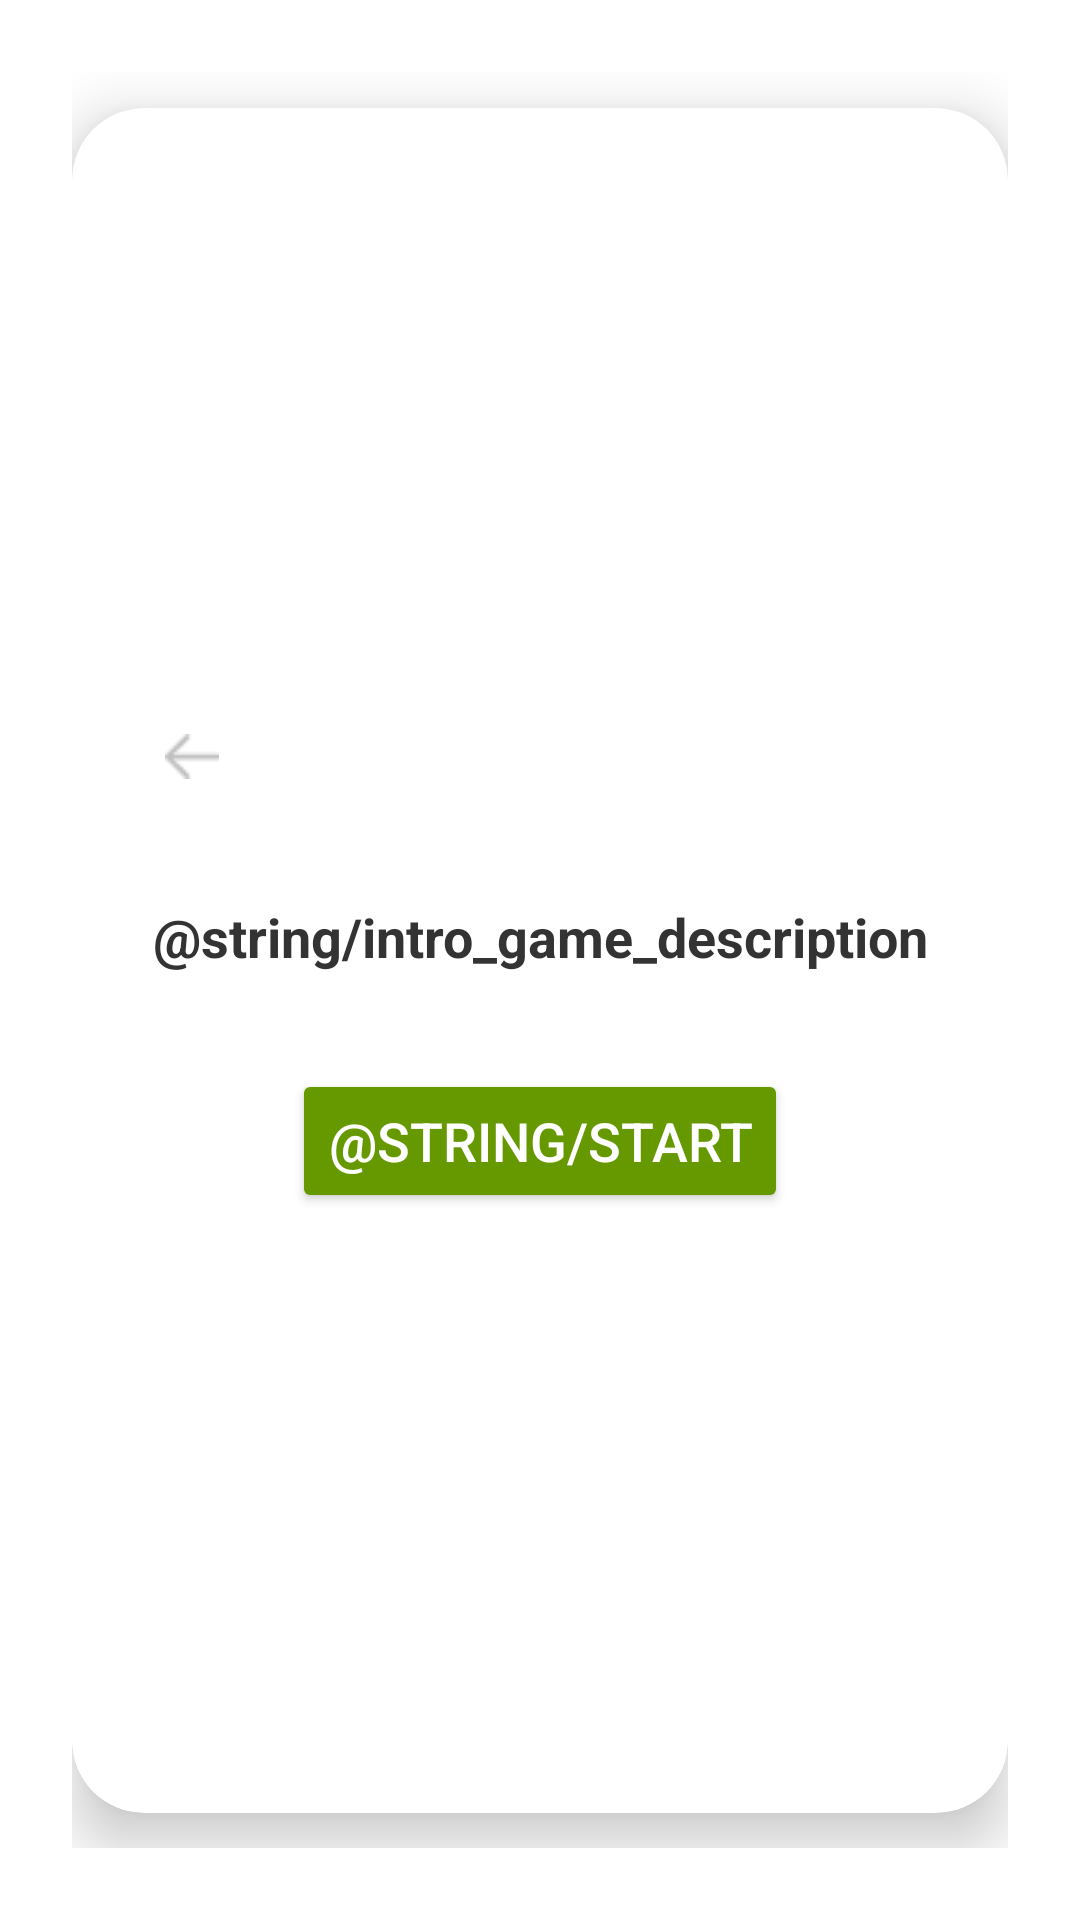

Where icons sit on this 1080px x 1920px app screen, as bbox(x1, y1, x2, y2):
Back: bbox(165, 734, 219, 779)
